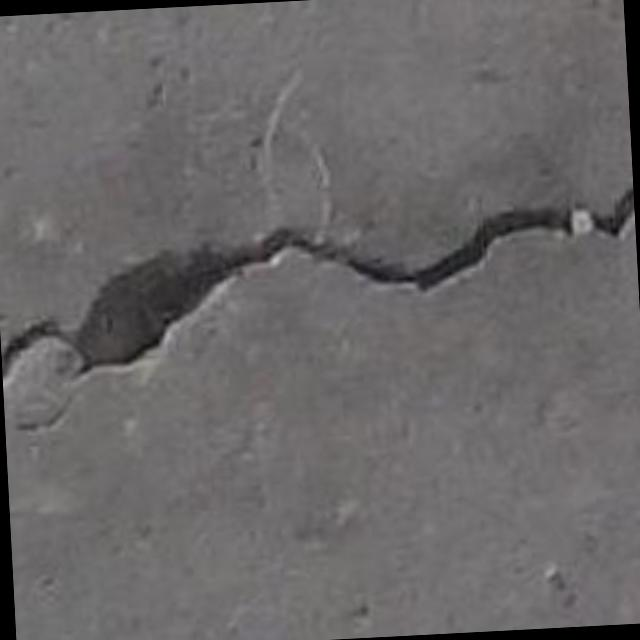crack: (1, 188, 634, 382)
